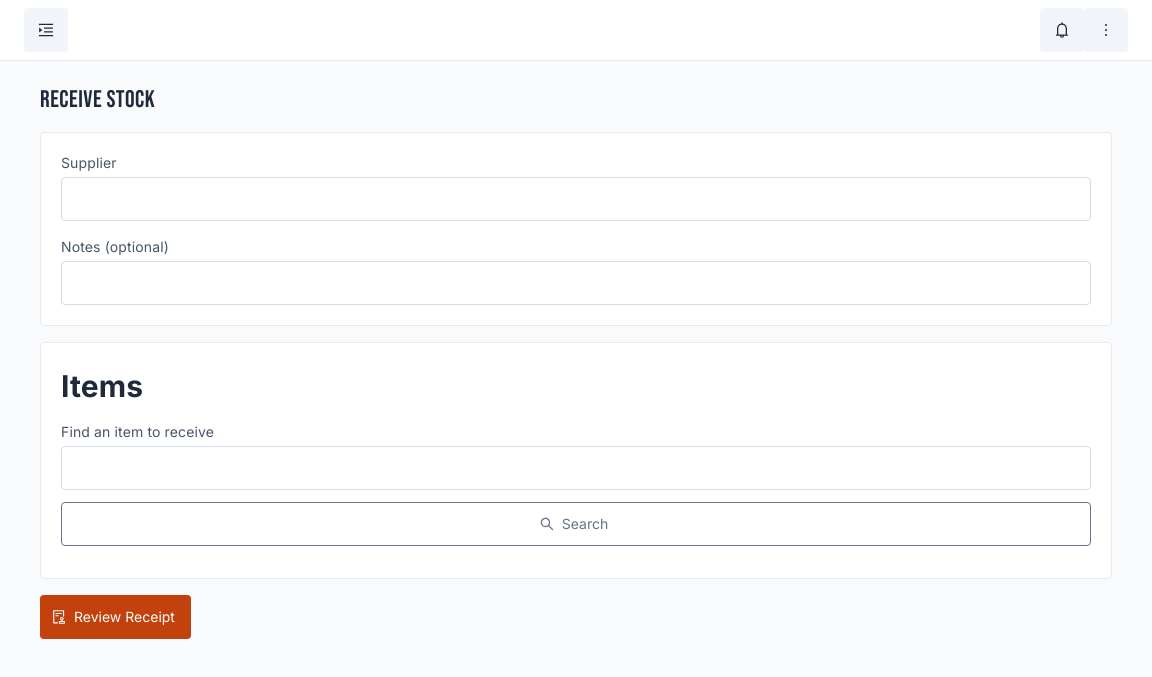
Test: receive stock screen (F5.1) › searching works from the keyboard (Enter in the box); the API decides which items it lists
Type "HP" into the field labelled "Find an item to receive".
click(576, 468); type("HP")  # box [61,446,1091,490]
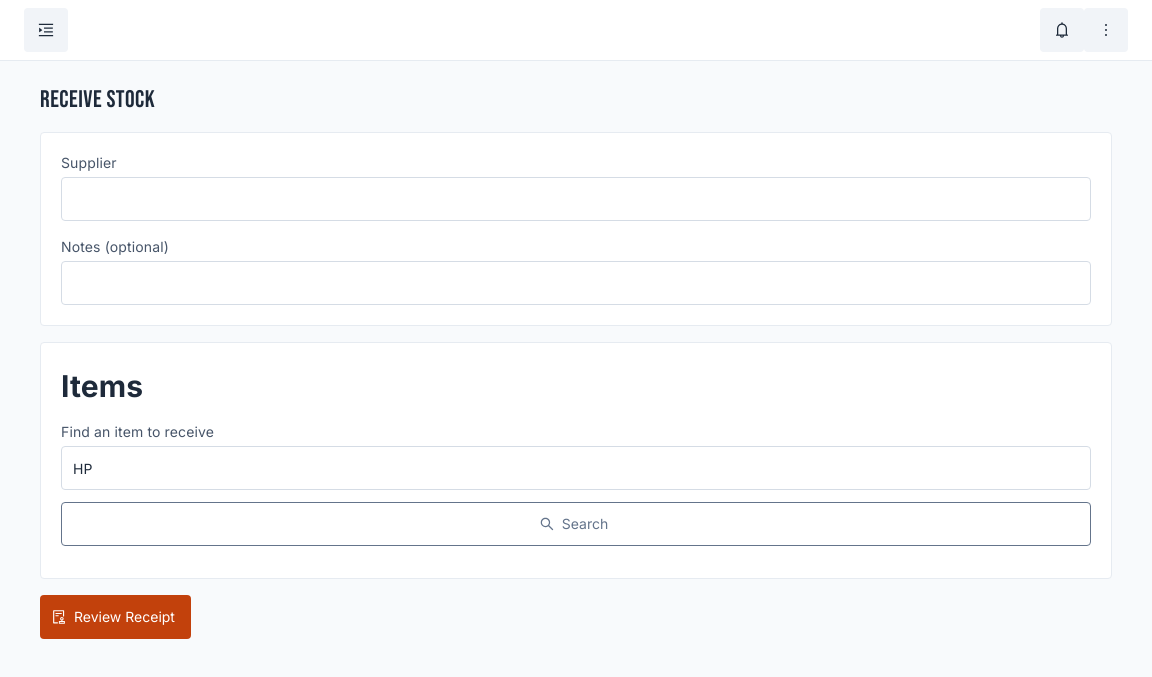
Press Enter in the field labelled "Find an item to receive", box [61,446,1091,490]
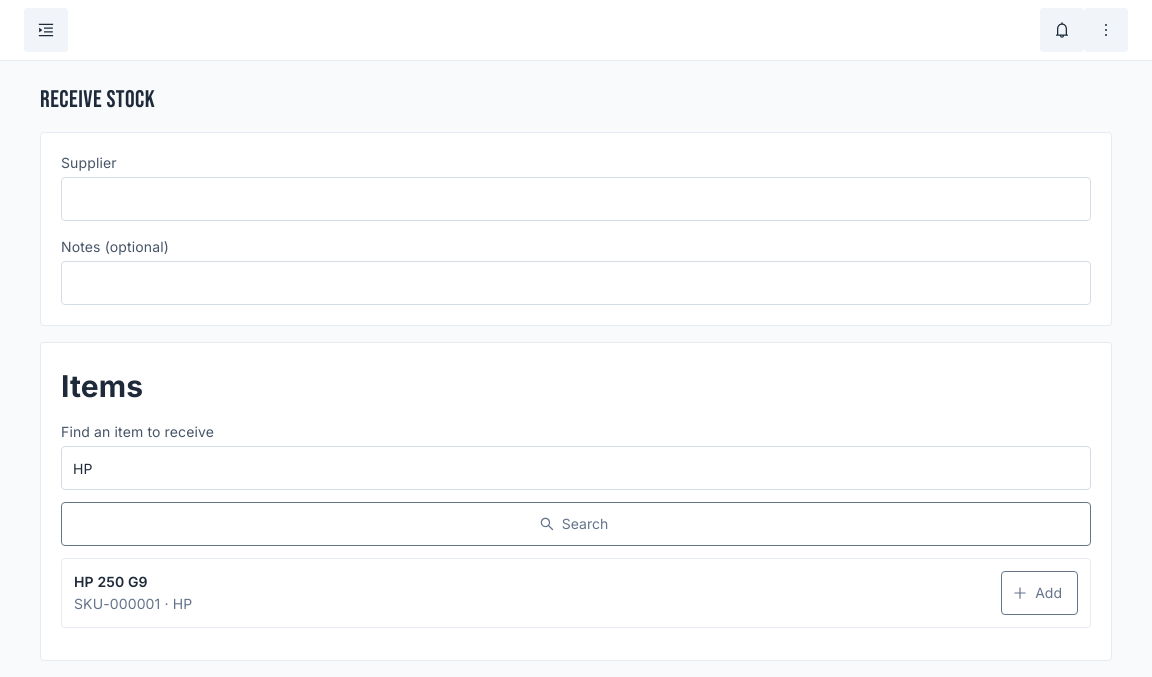
Expected: the text "HP 250 G9" is shown, [74,573,148,590]
Replace the text in the field labelled "Find an item to receive" with "charger" at (576, 468), box [61,446,1091,490]
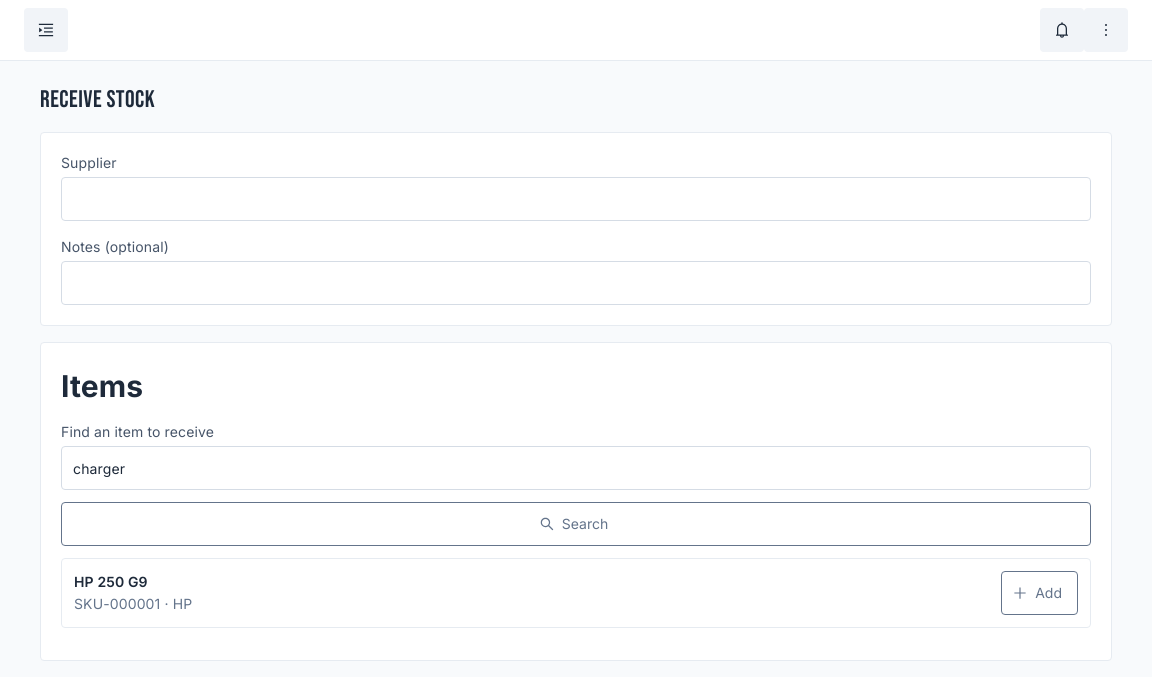
Press Enter in the field labelled "Find an item to receive", box [61,446,1091,490]
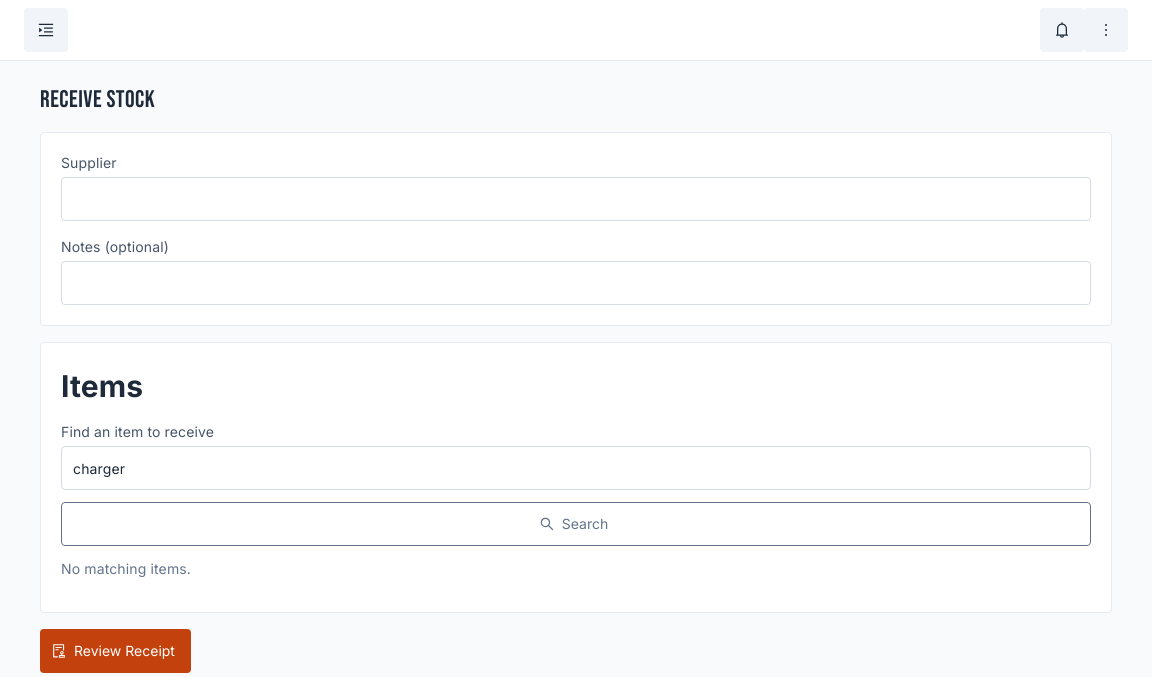
Expected: the text "No matching items." is shown, [61,560,191,577]
